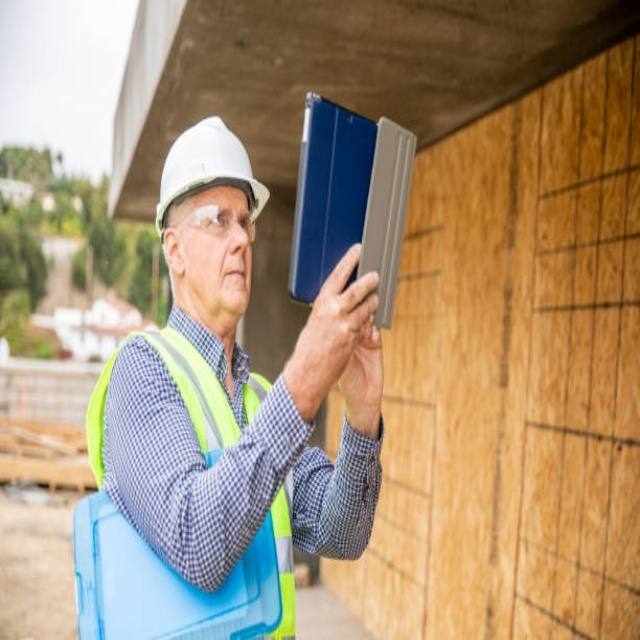Gafas: (173, 208, 258, 245)
Sin_guantes: (298, 241, 384, 403)
Sin_mascara: (218, 264, 249, 295)
